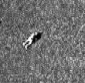man: (21, 29, 41, 51)
